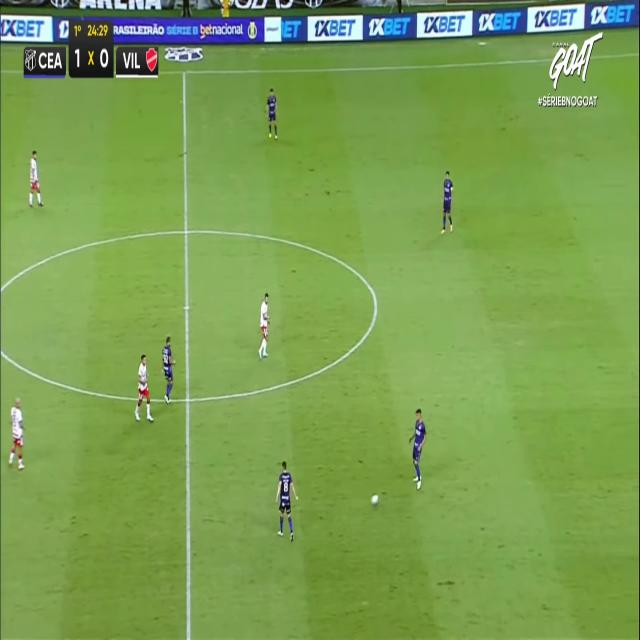ball: (371, 492, 378, 505)
player: (276, 460, 297, 540), (409, 408, 426, 487), (135, 354, 153, 422), (8, 396, 24, 469), (28, 150, 44, 207), (162, 334, 174, 403), (258, 291, 270, 358), (441, 169, 453, 233), (265, 87, 277, 139)
